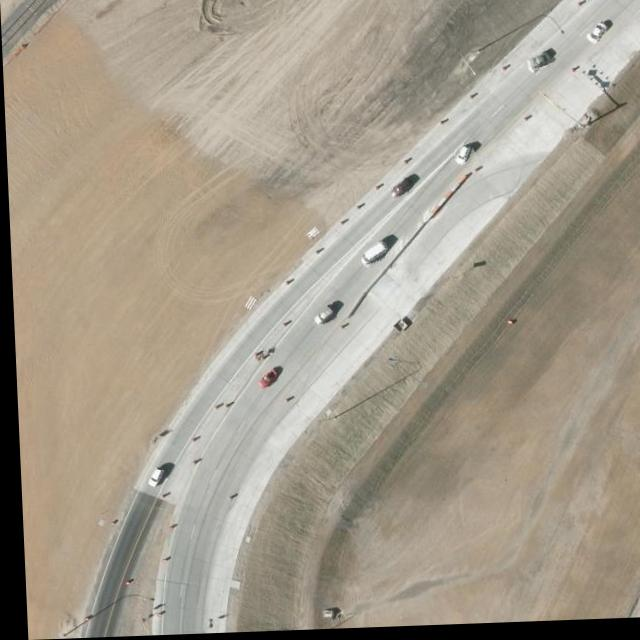vehicle: (359, 242, 386, 273), (523, 55, 554, 78), (309, 307, 335, 333), (451, 148, 476, 170), (390, 182, 412, 204), (255, 370, 275, 394), (587, 26, 608, 48), (141, 471, 162, 492)
